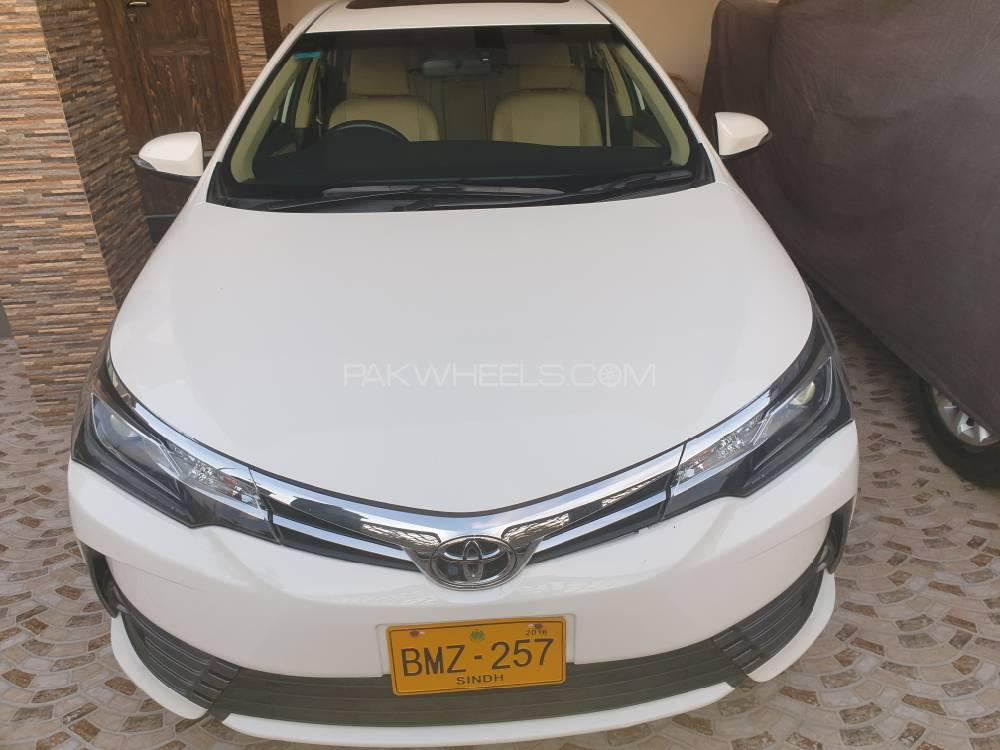license plate: (387, 623, 571, 691)
